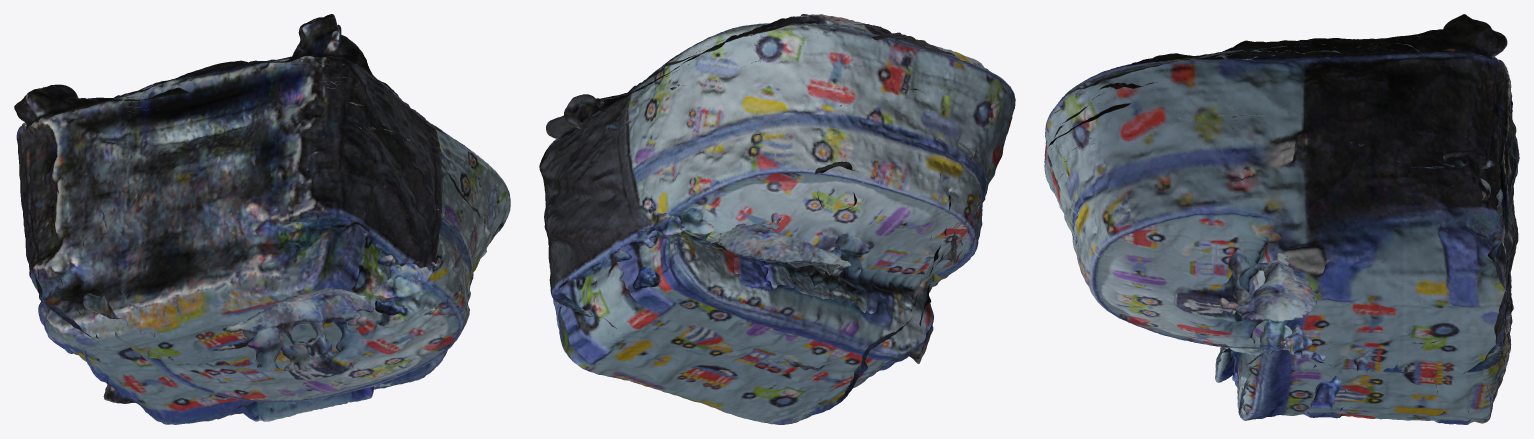
The model's file is backpack.glb.
The picture shows the model from 3 angles, left to right: view 1: azimuth 30°, elevation 25°; view 2: azimuth 150°, elevation 25°; view 3: azimuth 270°, elevation 25°; orthographic projection. The views are drawn at different scales.
Size of the model in its own units: 0.9005 by 0.6717 by 1.
